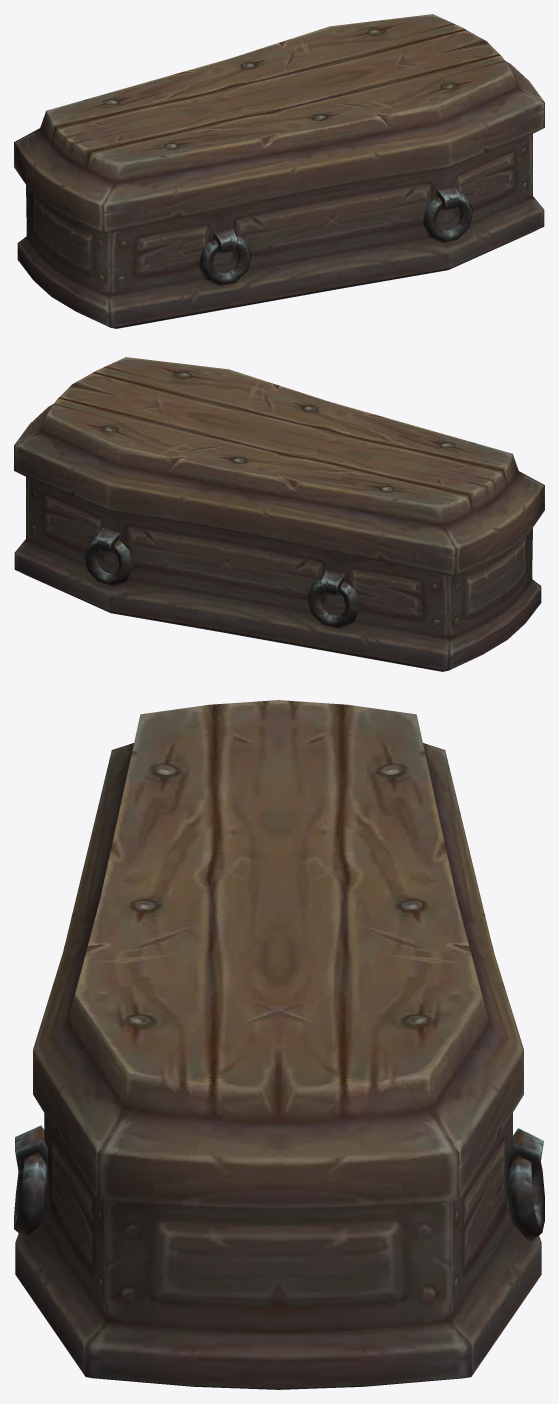
The picture shows the model from 3 angles, top to bottom: view 1: azimuth 30°, elevation 25°; view 2: azimuth 150°, elevation 25°; view 3: azimuth 270°, elevation 25°; orthographic projection. The views are drawn at different scales.
Size of the model in its own units: 3.68 by 1.18 by 1.93.
1 material, 1 textured.
